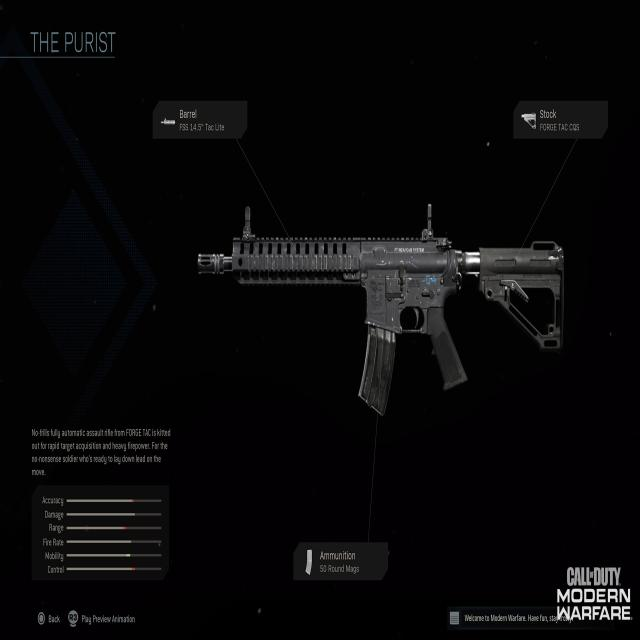Rifle: (198, 238, 565, 418)
